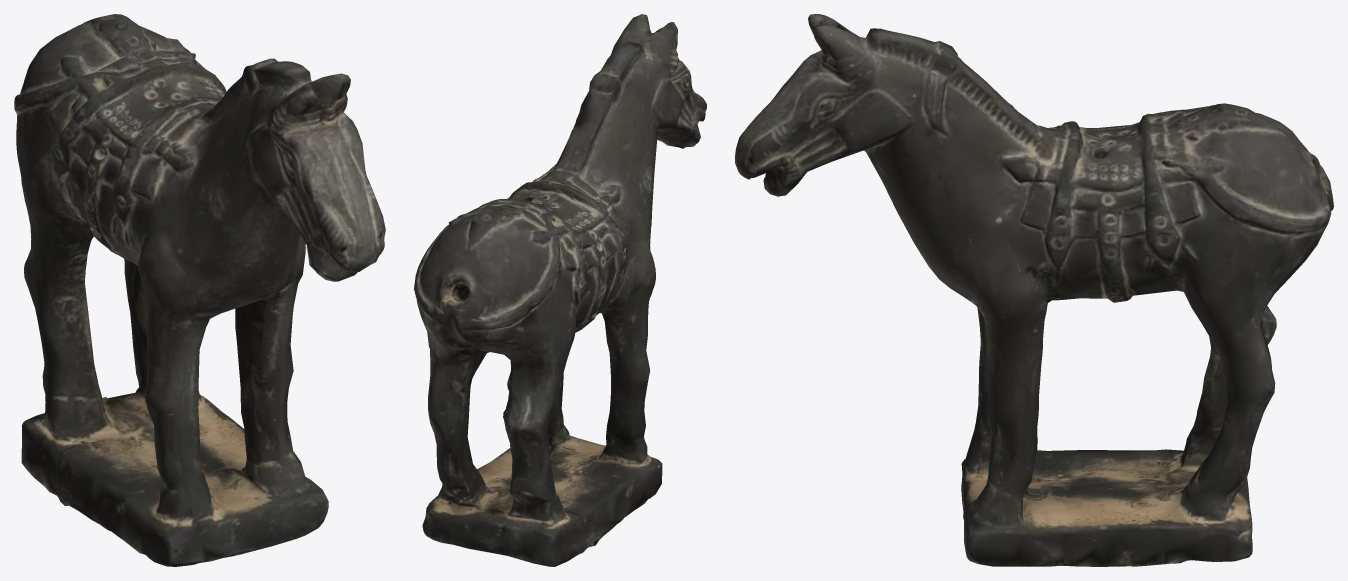
File: horse.glb
3 renders of one model, left to right at view 1: azimuth 30°, elevation 25°; view 2: azimuth 150°, elevation 25°; view 3: azimuth 270°, elevation 25°, orthographic. The views are drawn at different scales.
Visible parts, largest first — view 1: Object_4; view 2: Object_4; view 3: Object_4.
Part boxes in pixels (bbox=[...]): Object_4: bbox=[14, 14, 385, 566]; Object_4: bbox=[414, 14, 706, 566]; Object_4: bbox=[735, 14, 1333, 566].
Bounding box in the file's own units: 0.3445 × 1 × 1.05.
1 material, 1 textured.
